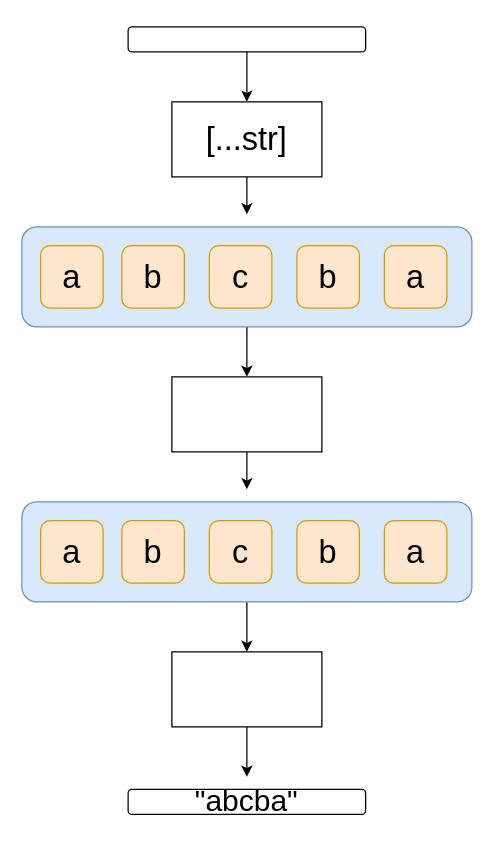
The diagram is 494 pixels wide and 841 high, and some of its shapes have lost their labels. Here are the shapes that lost their labels. From the top down, the centre of each, then its label:
[246,39]: str = "abcba"
[246,414]: reverse()
[246,689]: join("")
